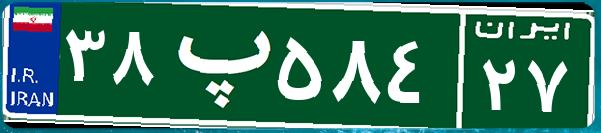2: (475, 38, 525, 113)
3: (57, 26, 110, 107)
4: (385, 28, 445, 110)
5: (273, 28, 330, 110)
7: (525, 38, 570, 115)
8: (330, 28, 385, 110), (110, 28, 158, 105)
پ: (158, 15, 273, 115)
